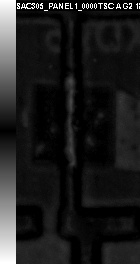led: (32, 84, 115, 167)
